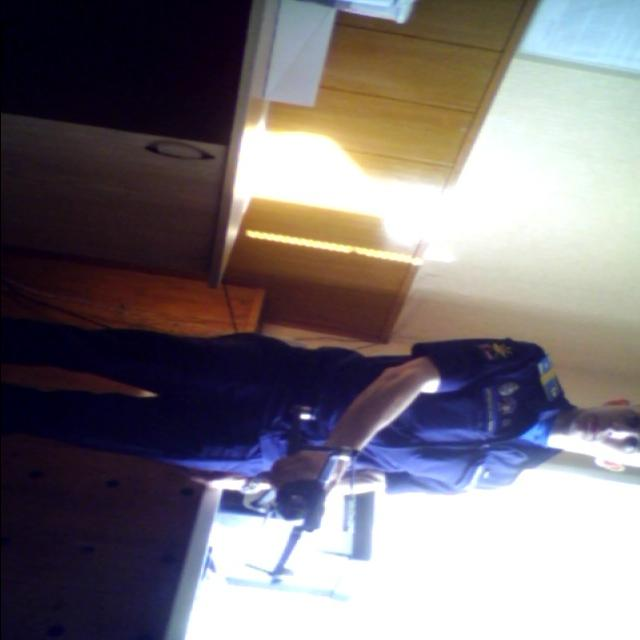drone: (209, 391, 378, 607)
